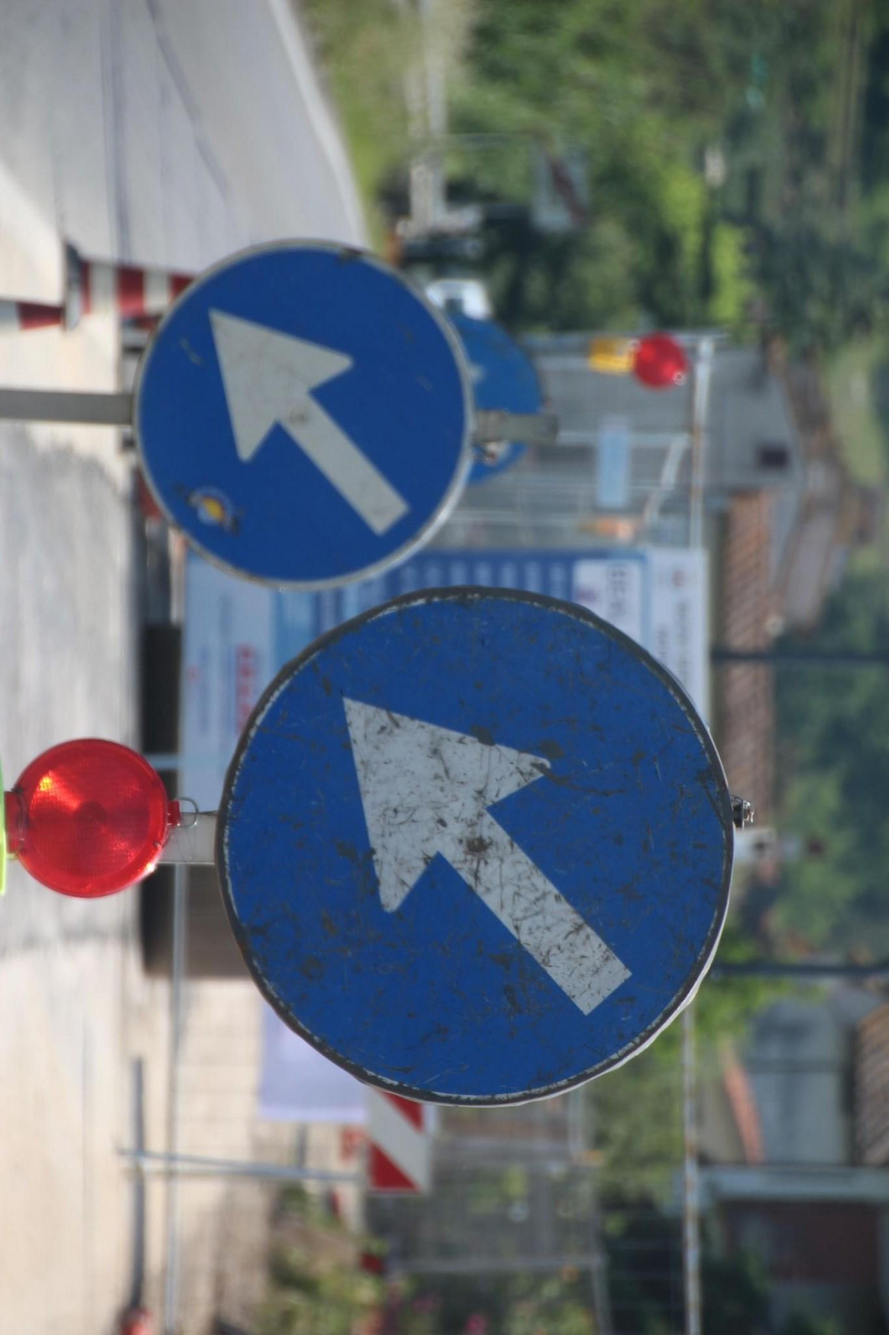obstructed_road_sign: (213, 582, 742, 1110)
road_sign: (132, 244, 480, 589)
